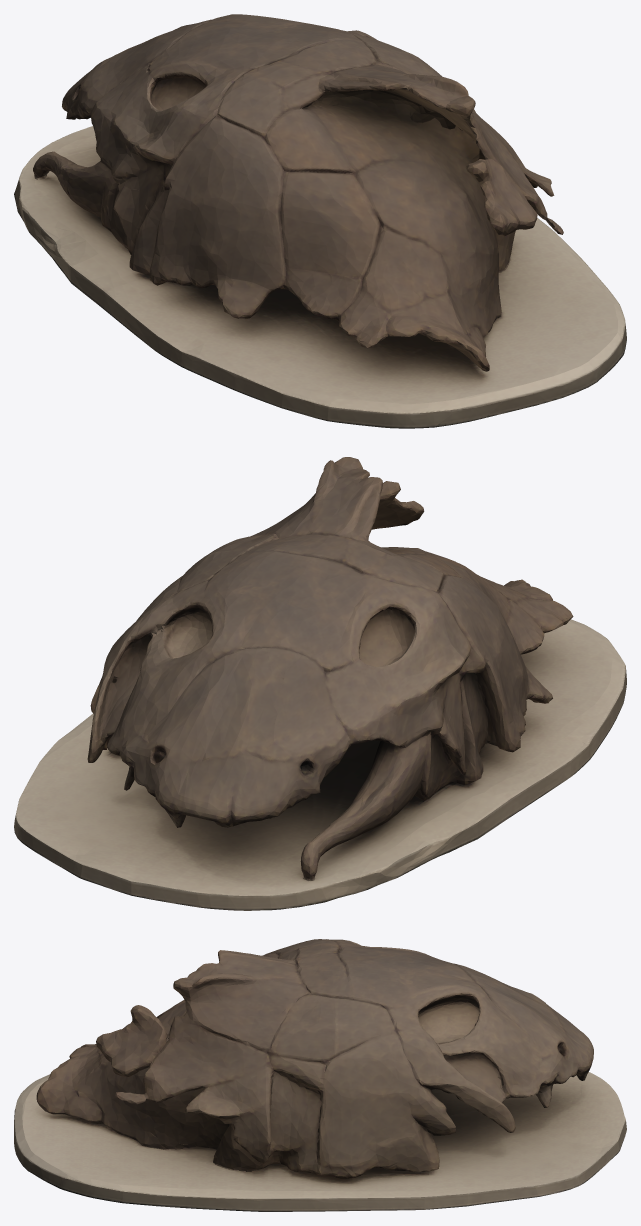
3 views of the same model, one above another, from view 1: azimuth 30°, elevation 25°; view 2: azimuth 150°, elevation 25°; view 3: azimuth 270°, elevation 25° (orthographic). The views are drawn at different scales.
Parts seen in each view (by area): view 1: world; view 2: world; view 3: world.
Part boxes in pixels (left/top/right/bottom): world: left=14, top=14, right=626, bottom=428; world: left=14, top=457, right=626, bottom=910; world: left=14, top=939, right=626, bottom=1211.
Size of the model in its own units: 1.36 by 0.7343 by 2.2.
Materials: 1 (1 with a texture image).
